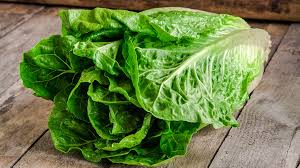lettuce: (42, 8, 243, 154)
